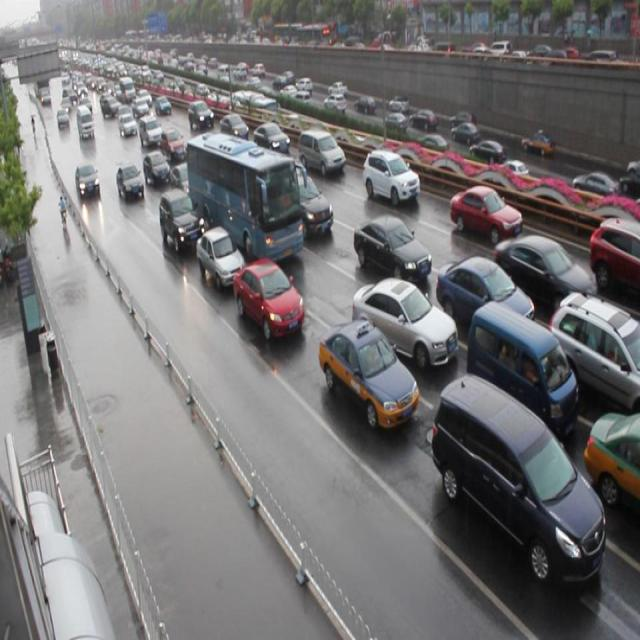car: (546, 289, 640, 411), (317, 318, 419, 427), (351, 276, 456, 372), (492, 234, 594, 316), (434, 253, 532, 337), (582, 411, 640, 518), (231, 256, 304, 338), (352, 213, 430, 281), (588, 215, 640, 298), (448, 184, 521, 243), (361, 147, 419, 205), (196, 224, 246, 288), (158, 188, 203, 252), (288, 175, 332, 236), (253, 121, 291, 156), (117, 162, 144, 201), (143, 150, 170, 188), (218, 112, 248, 143), (170, 162, 193, 200)
truck: (430, 374, 604, 584), (464, 298, 576, 429), (297, 127, 345, 176)
van: (186, 132, 302, 264)
